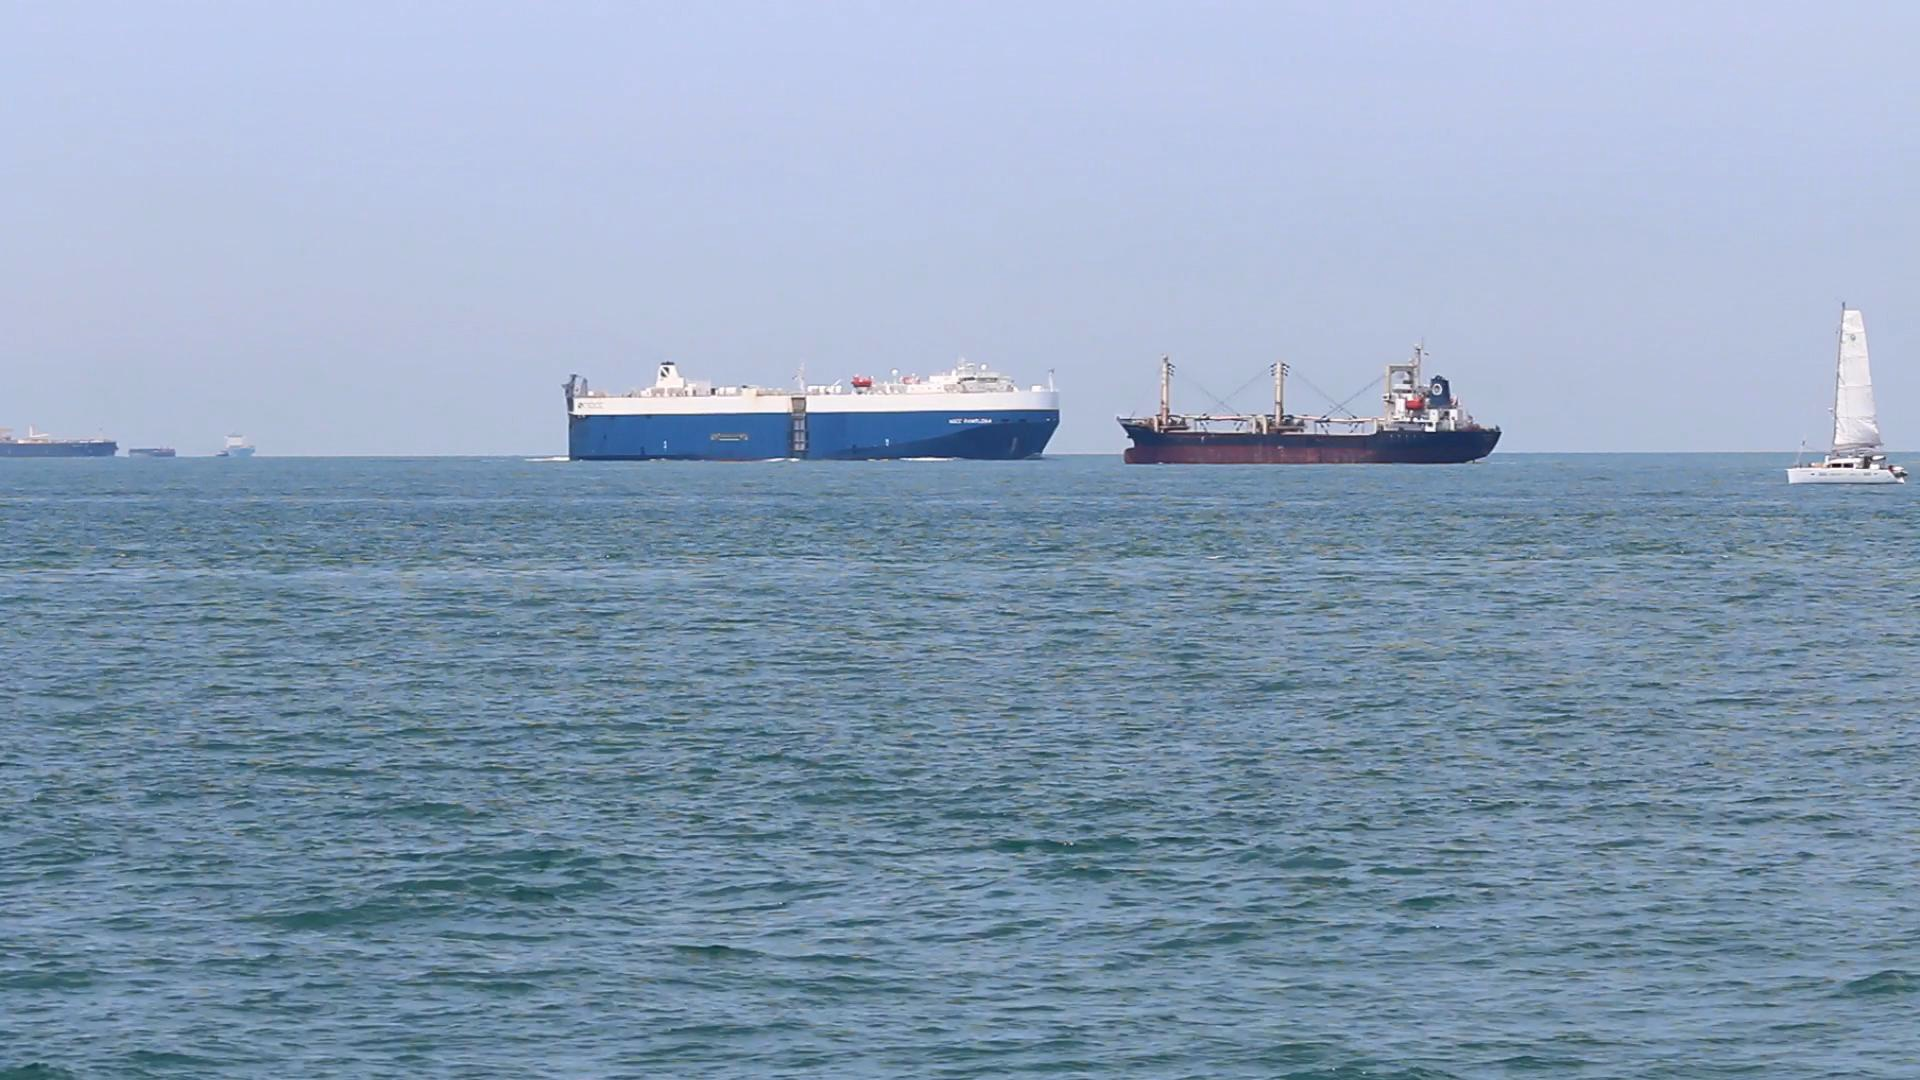Container Ship: (558, 345, 1068, 467), (1105, 334, 1511, 472), (1, 419, 127, 463), (207, 425, 257, 464)
